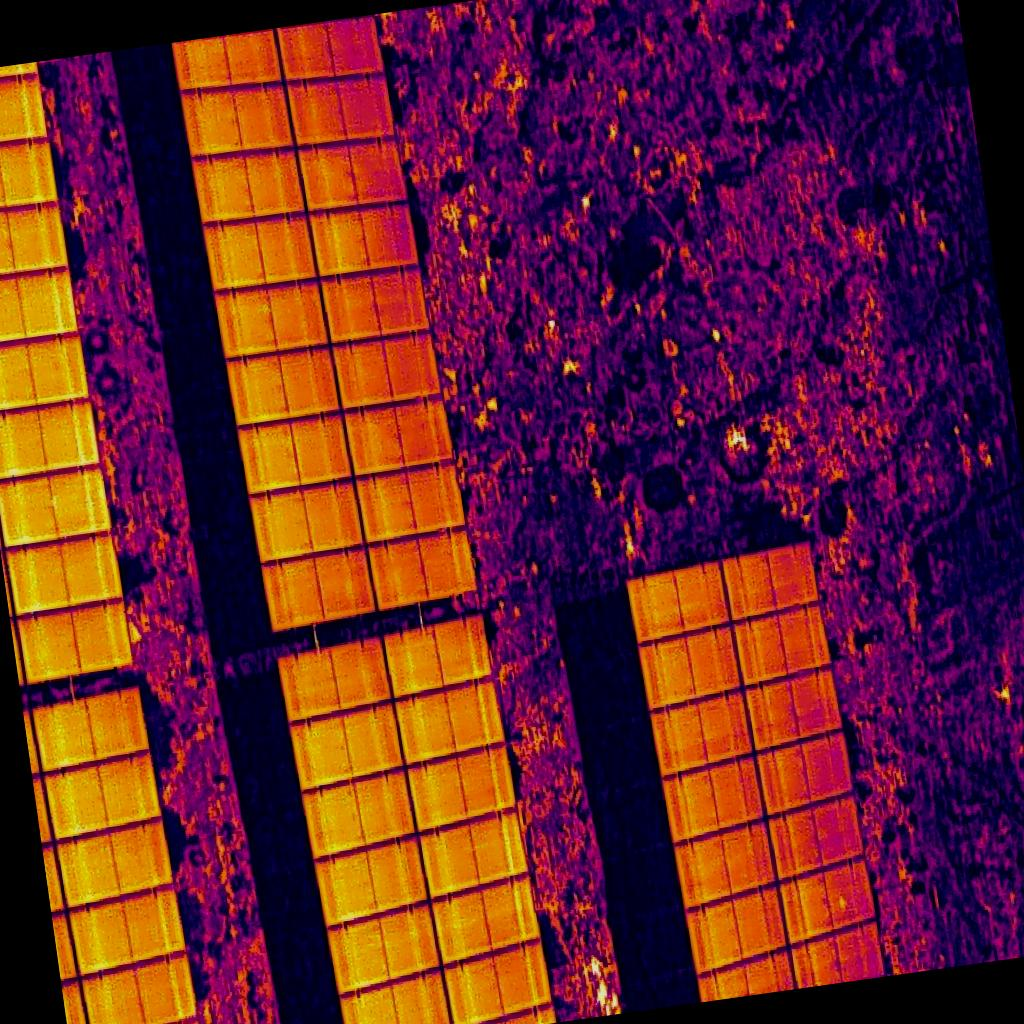panel: (406, 746, 520, 832), (429, 879, 539, 963), (385, 616, 490, 697), (368, 530, 477, 607)
